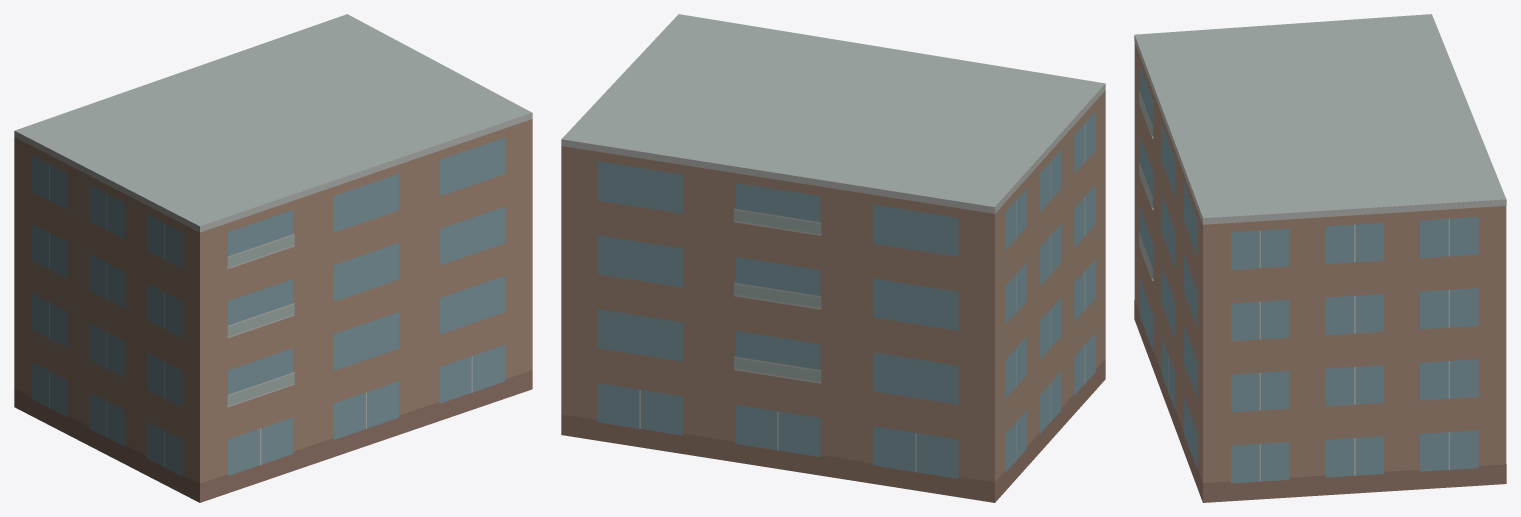
Rendered from survey-upis-32671363.glb.
3 views of the same model, side by side, from view 1: azimuth 30°, elevation 25°; view 2: azimuth 150°, elevation 25°; view 3: azimuth 270°, elevation 25° (orthographic). The views are drawn at different scales.
Parts seen in each view (by area): view 1: survey-upis-32671363.tmp; view 2: survey-upis-32671363.tmp; view 3: survey-upis-32671363.tmp.
Part boxes in pixels (x1,y1,x2,y2): survey-upis-32671363.tmp: (14, 14, 532, 502); survey-upis-32671363.tmp: (561, 14, 1105, 502); survey-upis-32671363.tmp: (1134, 14, 1506, 502).
Bounding box in the file's own units: 16.64 × 10.8 × 12.81.
